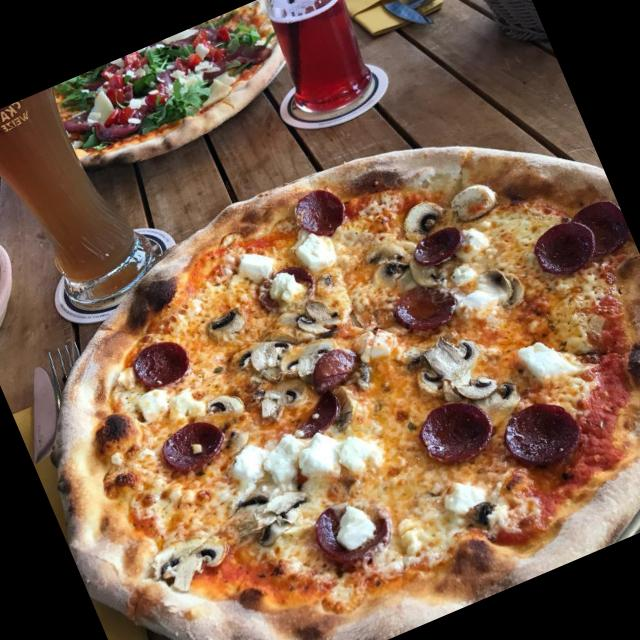mushrooms: (406, 323, 494, 400), (148, 523, 236, 599), (236, 478, 316, 554), (446, 361, 524, 432), (458, 260, 528, 322), (232, 330, 300, 384), (368, 242, 427, 296), (280, 329, 344, 378), (293, 292, 342, 344), (202, 382, 248, 425), (399, 194, 448, 233), (203, 304, 251, 342), (254, 380, 294, 420)
pepperoni: (495, 388, 587, 476), (307, 486, 399, 574), (411, 390, 498, 472), (526, 207, 604, 283), (154, 412, 232, 481), (564, 191, 635, 265), (388, 270, 462, 338), (249, 258, 322, 321), (128, 332, 196, 395), (288, 181, 352, 246), (286, 386, 352, 444), (404, 220, 468, 274), (304, 338, 365, 392)
pizza: (58, 146, 640, 640), (51, 0, 285, 170)
